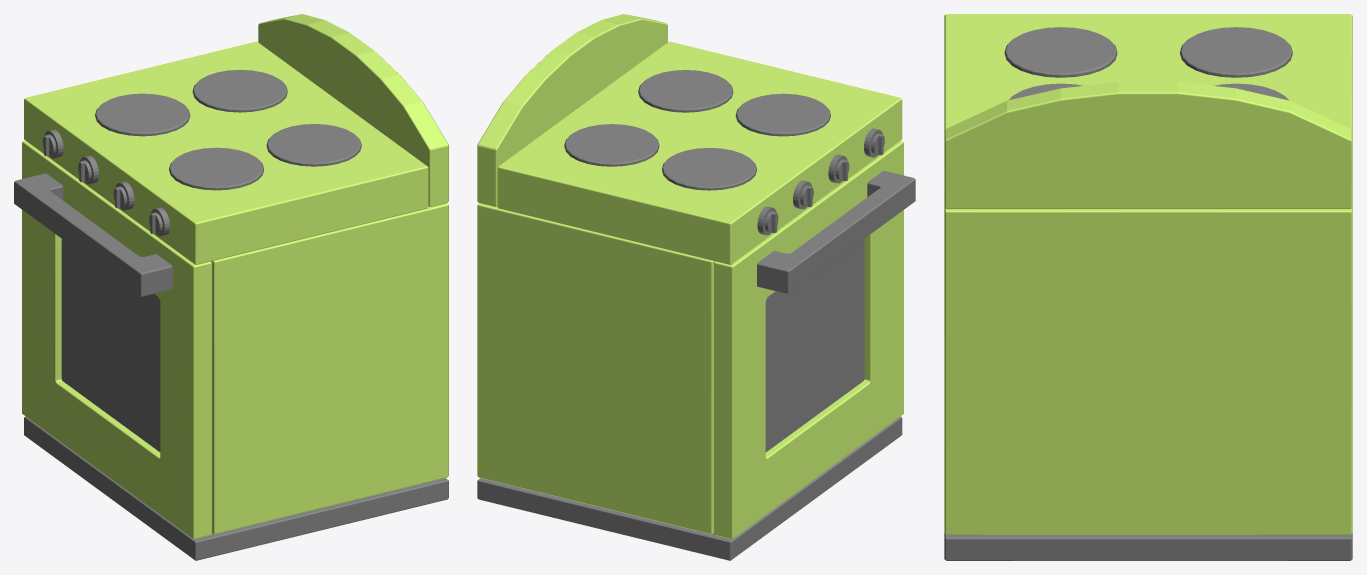
The model's file is estufa.fbx.
The picture shows the model from 3 angles, left to right: view 1: azimuth 30°, elevation 25°; view 2: azimuth 150°, elevation 25°; view 3: azimuth 270°, elevation 25°; orthographic projection. The views are drawn at different scales.
Parts seen in each view (by area): view 1: Stove, Stove.001; view 2: Stove, Stove.001; view 3: Stove.
Boxes of the visible parts, box(x1,y1,x2,y2) form: Stove: box(14, 14, 448, 560); Stove.001: box(42, 129, 169, 236); Stove: box(477, 14, 915, 560); Stove.001: box(757, 128, 884, 235); Stove: box(944, 14, 1352, 560).
Size of the model in its own units: 194 by 254 by 200.
